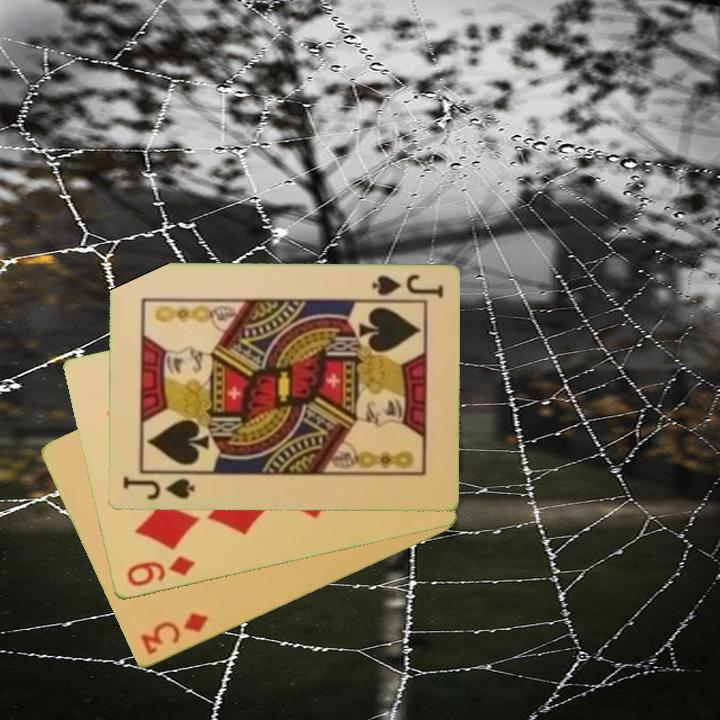3d: (137, 609, 211, 658)
9d: (123, 553, 197, 590)
Js: (367, 271, 445, 302), (118, 473, 197, 503)
